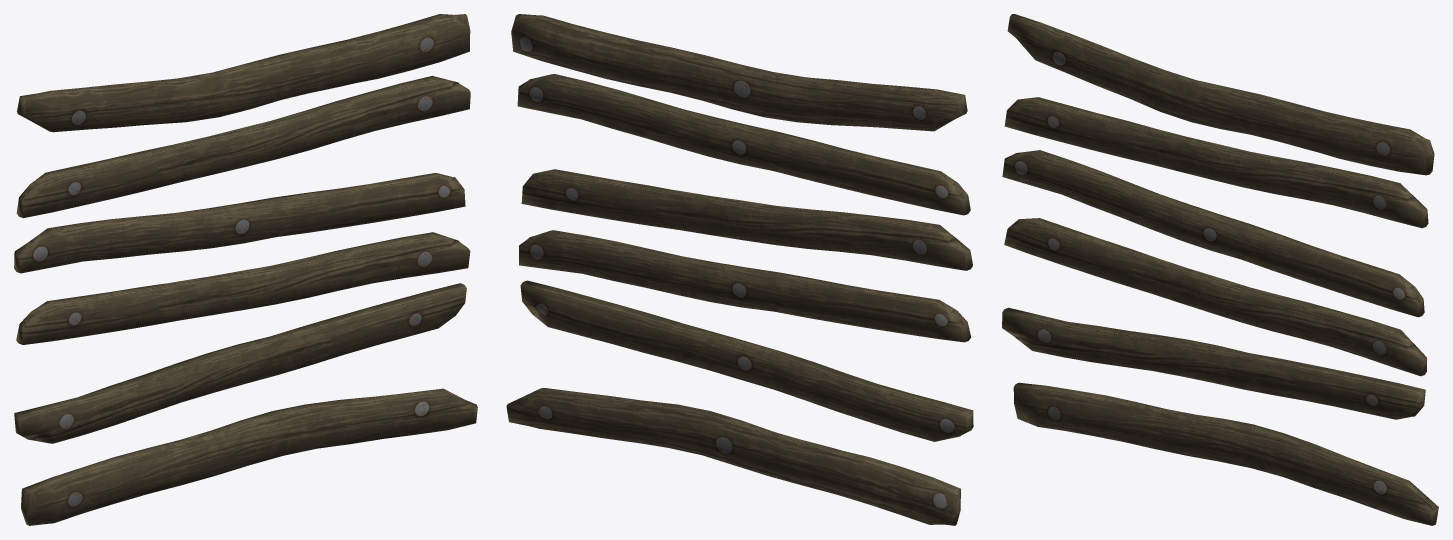
Rendered from BUI_RES_panelA.FBX.
The picture shows the model from 3 angles, left to right: view 1: azimuth 30°, elevation 25°; view 2: azimuth 150°, elevation 25°; view 3: azimuth 330°, elevation 25°; orthographic projection. The views are drawn at different scales.
Parts seen in each view (by area): view 1: BUI_RES_panelA_LOD0; view 2: BUI_RES_panelA_LOD0; view 3: BUI_RES_panelA_LOD0.
Part boxes in pixels (<box>): BUI_RES_panelA_LOD0: <box>14,14,477,525</box>; BUI_RES_panelA_LOD0: <box>506,14,973,525</box>; BUI_RES_panelA_LOD0: <box>1002,14,1438,525</box>.
Size of what is drawn, in the model's own units: 411 by 370 by 19.4.
Materials: 1 (1 with a texture image).
